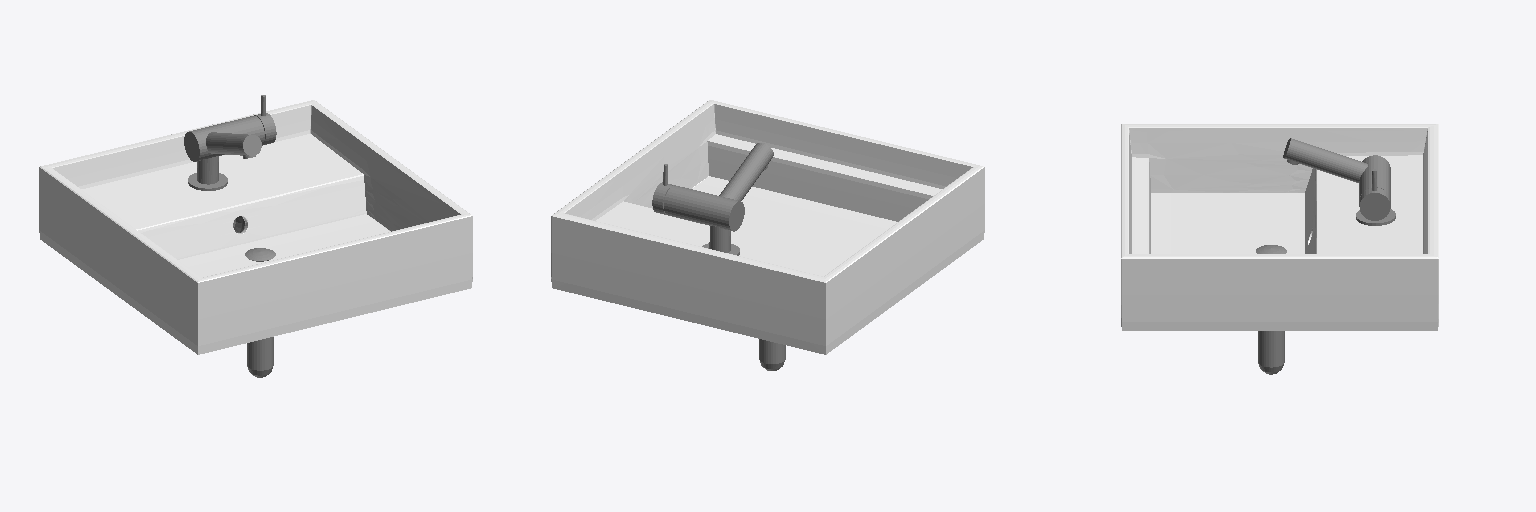
File: bathroom4.obj
3 views of the same model, side by side, from view 1: azimuth 30°, elevation 25°; view 2: azimuth 150°, elevation 25°; view 3: azimuth 270°, elevation 25° (orthographic).
Parts seen in each view (by area): view 1: pica_rectangular_Cube.015, soporte_grifo.001_Cylinder.026, cuerpo_grifo.001_Cylinder.021, tuberia_desague.001_Cylinder.040, base2.001_Cylinder.022; view 2: pica_rectangular_Cube.015, soporte_grifo.001_Cylinder.026, cuerpo_grifo.001_Cylinder.021, tuberia_desague.001_Cylinder.040; view 3: pica_rectangular_Cube.015, cuerpo_grifo.001_Cylinder.021, tuberia_desague.001_Cylinder.040, soporte_grifo.001_Cylinder.026, base_gira_grifo.001_Cylinder.023.
Boxes of the visible parts, <box> form: pica_rectangular_Cube.015: <box>39,100,472,354</box>; soporte_grifo.001_Cylinder.026: <box>184,116,265,161</box>; cuerpo_grifo.001_Cylinder.021: <box>206,132,261,158</box>; tuberia_desague.001_Cylinder.040: <box>247,337,273,377</box>; base2.001_Cylinder.022: <box>197,156,218,184</box>; pica_rectangular_Cube.015: <box>551,100,984,354</box>; soporte_grifo.001_Cylinder.026: <box>663,185,744,231</box>; cuerpo_grifo.001_Cylinder.021: <box>719,143,773,200</box>; tuberia_desague.001_Cylinder.040: <box>759,339,785,370</box>; pica_rectangular_Cube.015: <box>1121,124,1438,330</box>; cuerpo_grifo.001_Cylinder.021: <box>1283,138,1367,182</box>; tuberia_desague.001_Cylinder.040: <box>1258,331,1284,374</box>; soporte_grifo.001_Cylinder.026: <box>1359,155,1390,201</box>; base_gira_grifo.001_Cylinder.023: <box>1359,188,1390,220</box>.
Bounding box in the file's own units: 63.95 × 52 × 63.95.